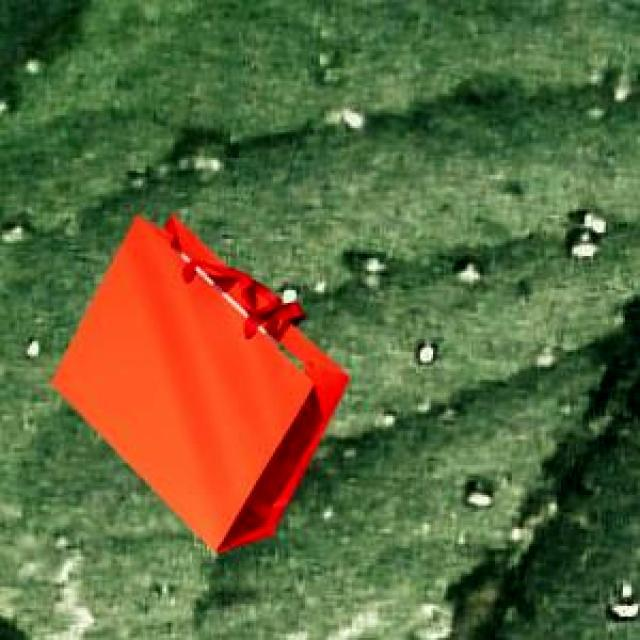Paper_Bag: (48, 212, 347, 550)
